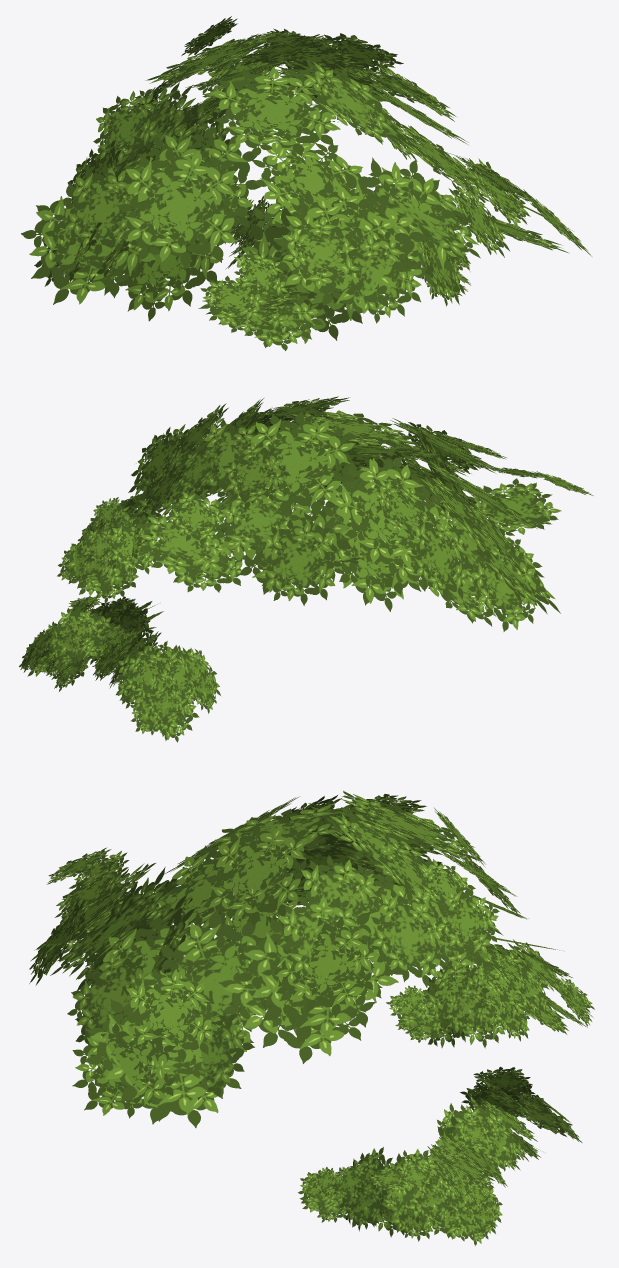
Rendered from Lewis_Large_Tree_1_Leaves.fbx.
3 views of the same model, one above another, from view 1: azimuth 30°, elevation 25°; view 2: azimuth 150°, elevation 25°; view 3: azimuth 270°, elevation 25° (orthographic). The views are drawn at different scales.
Parts seen in each view (by area): view 1: polySurface536; view 2: polySurface536; view 3: polySurface536.
Part boxes in pixels (x1,y1,x2,y2): polySurface536: (21,16,591,350); polySurface536: (19,396,593,742); polySurface536: (29,790,594,1245).
Size of the model in its own units: 3.14 by 1.87 by 2.93.
